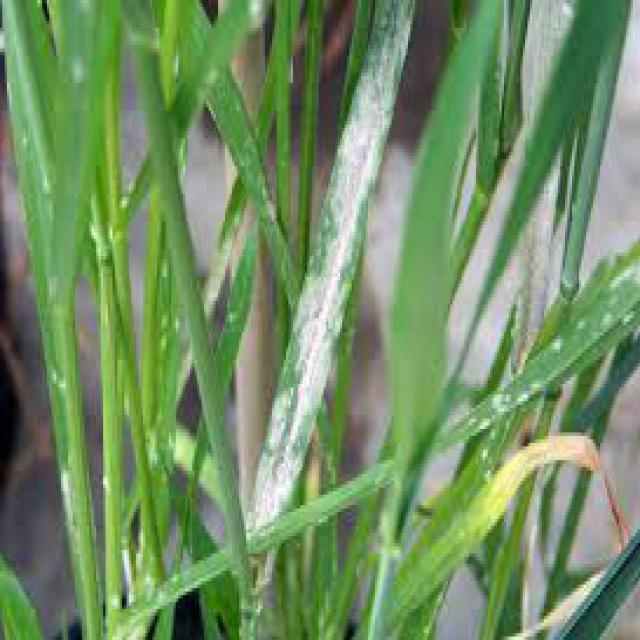wheat-powdery-mildew: (245, 0, 417, 526)
